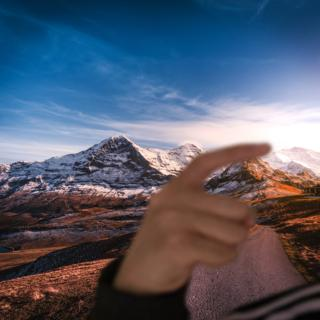WHY: (114, 131, 279, 291)
